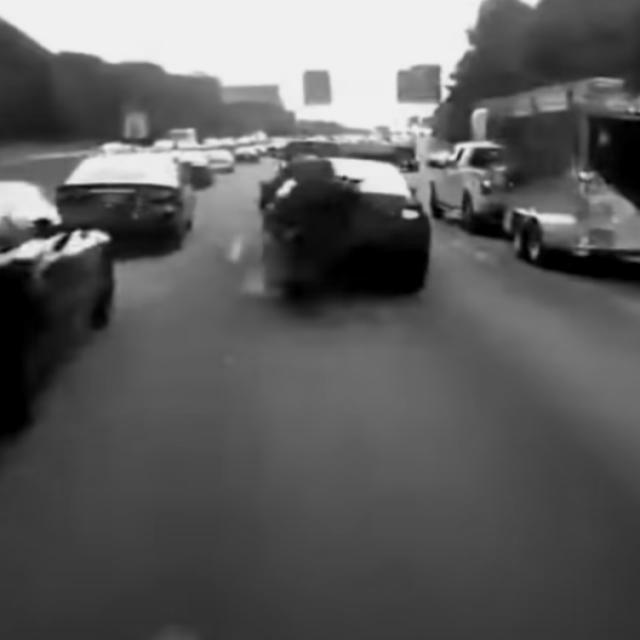accident: (430, 78, 640, 266), (260, 144, 430, 316)
non-accident: (57, 124, 257, 250)
